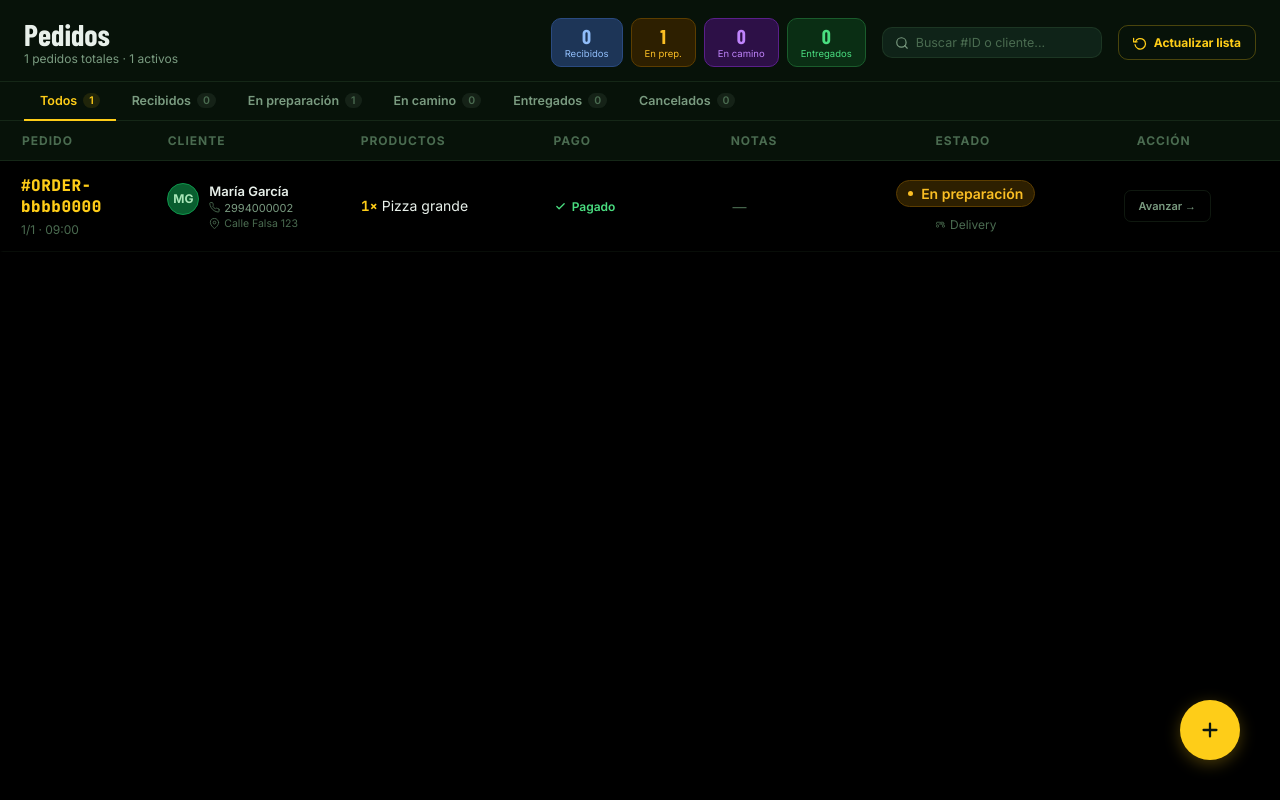
botón Avanzar — label según estado y tipo › IN_PREPARATION + DELIVERY → "Avanzar a En camino"
Click the element with class "orders-row".
click(640, 206)  # box [0,161,1279,252]
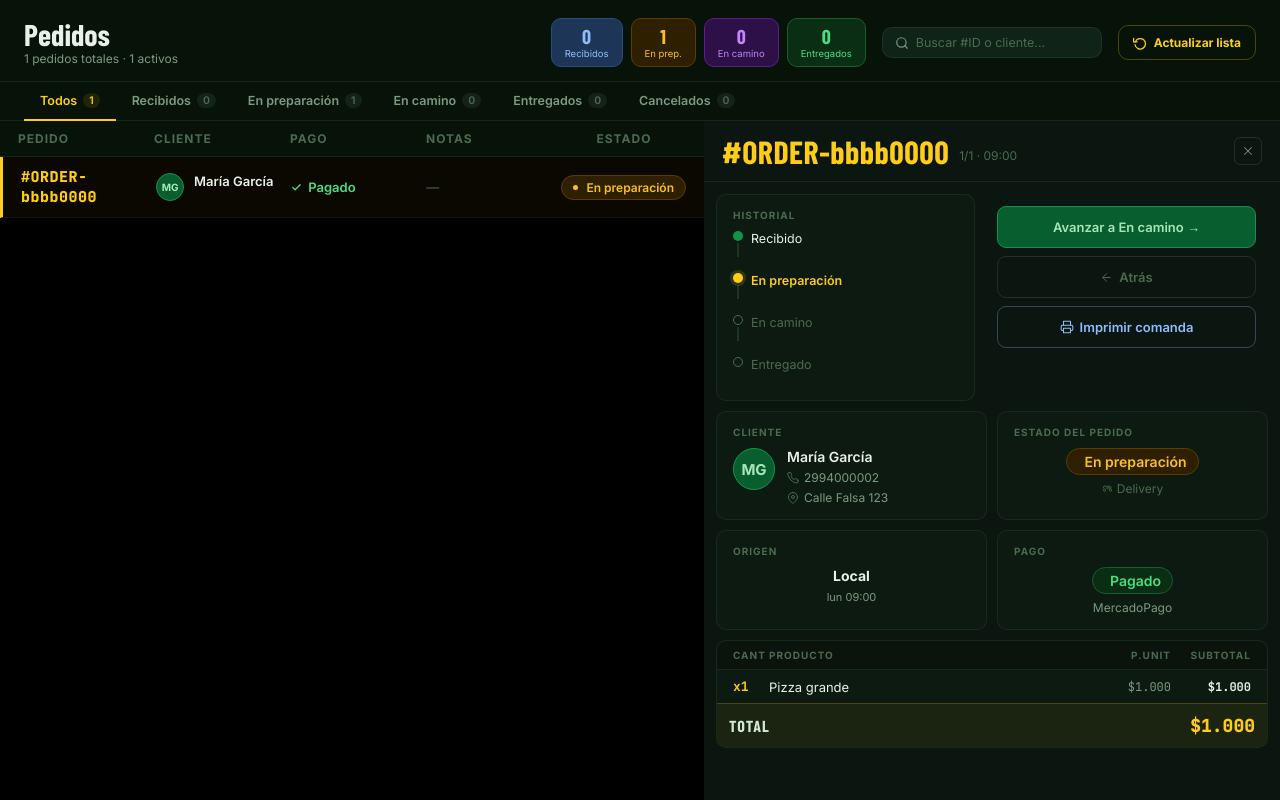
Expected: the button "Avanzar a En camino →" is shown, [997,206,1256,248]
